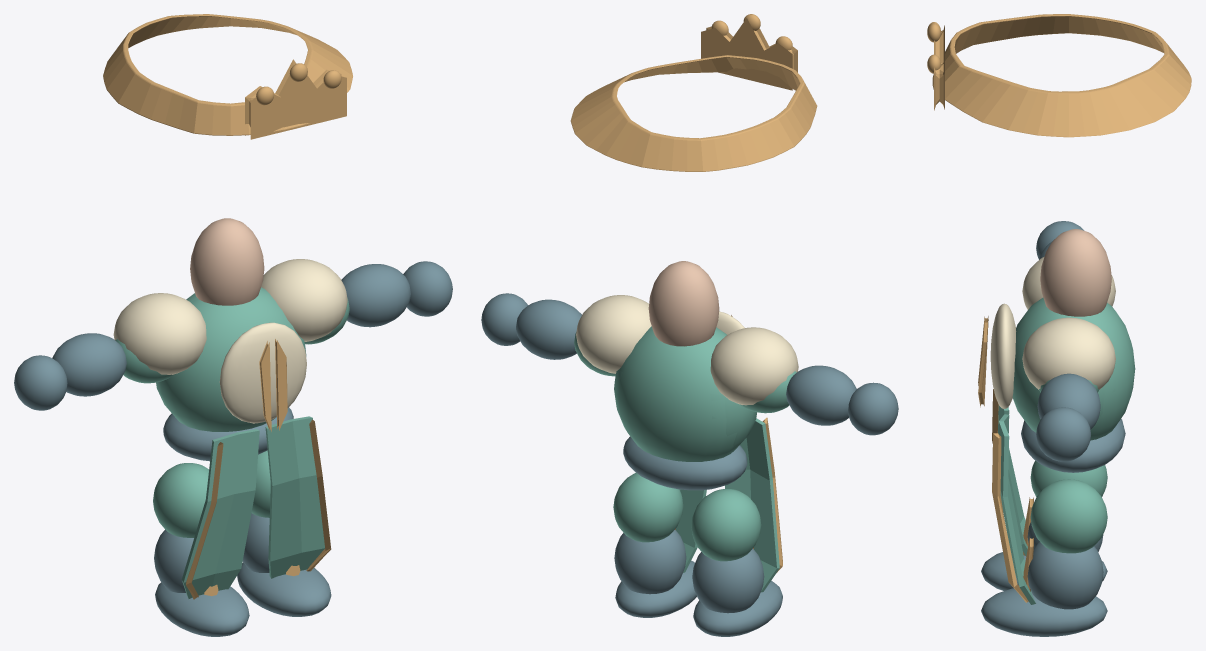
Rendered from knight-casual-v2.glb.
3 views of the same model, side by side, from view 1: azimuth 30°, elevation 25°; view 2: azimuth 150°, elevation 25°; view 3: azimuth 270°, elevation 25° (orthographic). The views are drawn at different scales.
Parts seen in each view (by area): view 1: TLL_chest, TLL_hips, TLL_head, TLL_upperarmr, TLL_upperarml, TLL_lowerarmr, TLL_footr, TLL_lowerarml, TLL_footl, TLL_upperlegr, TLL_handr, TLL_handl (+3 smaller); view 2: TLL_chest, TLL_head, TLL_hips, TLL_upperarmr, TLL_upperarml, TLL_upperlegr, TLL_upperlegl, TLL_lowerlegl, TLL_lowerlegr, TLL_lowerarmr, TLL_lowerarml, TLL_footr (+3 smaller); view 3: TLL_head, TLL_chest, TLL_hips, TLL_upperarml, TLL_upperlegl, TLL_lowerlegl, TLL_footl, TLL_handl, TLL_lowerarml, TLL_upperlegr, TLL_upperarmr, TLL_footr (+2 smaller).
Boxes of the visible parts, bbox=[...] form: TLL_chest: bbox=[156, 218, 306, 431]; TLL_hips: bbox=[163, 407, 331, 599]; TLL_head: bbox=[103, 14, 352, 139]; TLL_upperarmr: bbox=[113, 293, 206, 383]; TLL_upperarml: bbox=[261, 259, 349, 344]; TLL_lowerarmr: bbox=[52, 333, 126, 396]; TLL_footr: bbox=[155, 582, 249, 636]; TLL_lowerarml: bbox=[341, 264, 410, 327]; TLL_footl: bbox=[237, 562, 331, 616]; TLL_upperlegr: bbox=[153, 463, 208, 537]; TLL_handr: bbox=[14, 355, 67, 410]; TLL_handl: bbox=[403, 261, 452, 316]; TLL_chest: bbox=[614, 261, 756, 461]; TLL_head: bbox=[570, 14, 817, 171]; TLL_hips: bbox=[623, 417, 782, 592]; TLL_upperarmr: bbox=[710, 327, 798, 413]; TLL_upperarml: bbox=[574, 295, 651, 376]; TLL_upperlegr: bbox=[691, 489, 761, 561]; TLL_upperlegl: bbox=[613, 472, 683, 542]; TLL_lowerlegl: bbox=[614, 528, 686, 594]; TLL_lowerlegr: bbox=[692, 547, 764, 613]; TLL_lowerarmr: bbox=[786, 365, 856, 425]; TLL_lowerarml: bbox=[516, 299, 581, 359]; TLL_footr: bbox=[693, 581, 782, 636]; TLL_head: bbox=[927, 14, 1191, 137]; TLL_chest: bbox=[978, 229, 1135, 440]; TLL_hips: bbox=[992, 389, 1125, 604]; TLL_upperarml: bbox=[1022, 317, 1115, 392]; TLL_upperlegl: bbox=[1030, 479, 1107, 553]; TLL_lowerlegl: bbox=[1023, 537, 1103, 609]; TLL_footl: bbox=[981, 588, 1107, 636]; TLL_handl: bbox=[1036, 407, 1090, 461]; TLL_lowerarml: bbox=[1037, 373, 1100, 429]; TLL_upperlegr: bbox=[1030, 460, 1107, 496]; TLL_upperarmr: bbox=[1022, 257, 1115, 309]; TLL_footr: bbox=[981, 552, 1107, 590].
Bounding box in the file's own units: 1.79 × 2.35 × 0.9599.
